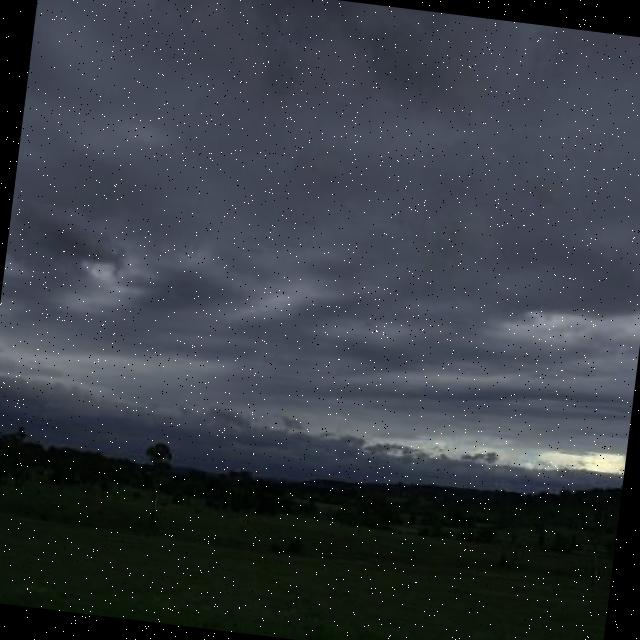Ac: (1, 1, 640, 433)
